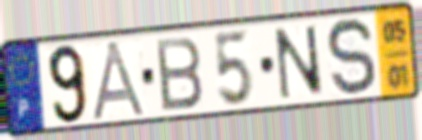5: (211, 27, 255, 107)
9: (45, 42, 90, 126)
A: (88, 38, 151, 123)
B: (153, 34, 206, 114)
N: (271, 23, 327, 102)
S: (324, 14, 379, 100)
